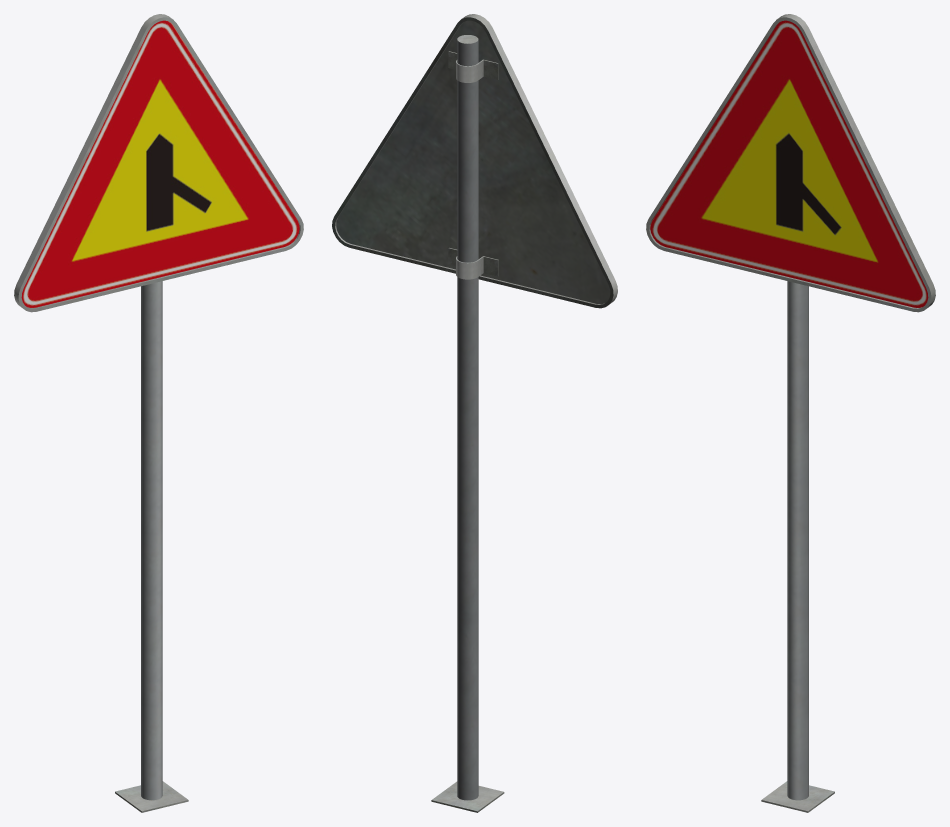
3 renders of one model, left to right at view 1: azimuth 30°, elevation 25°; view 2: azimuth 150°, elevation 25°; view 3: azimuth 330°, elevation 25°, orthographic.
Parts seen in each view (by area): view 1: MainBuilding; view 2: MainBuilding; view 3: MainBuilding.
Boxes of the visible parts, bbox=[...] form: MainBuilding: bbox=[14, 14, 303, 812]; MainBuilding: bbox=[332, 14, 617, 812]; MainBuilding: bbox=[646, 14, 935, 812].
Size of the model in its own units: 0.9151 by 2.41 by 0.15.
Materials: 1 (1 with a texture image).
